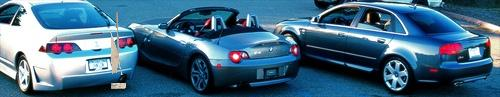tampered: (111, 13, 126, 89)
